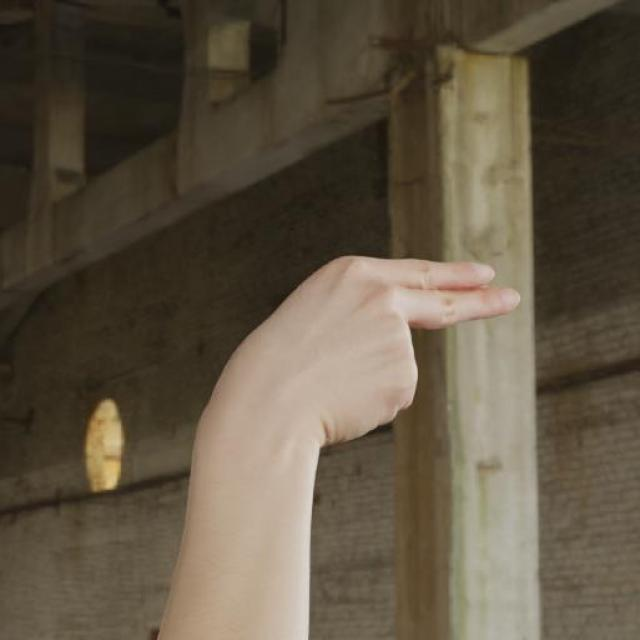H: (208, 250, 527, 449)
